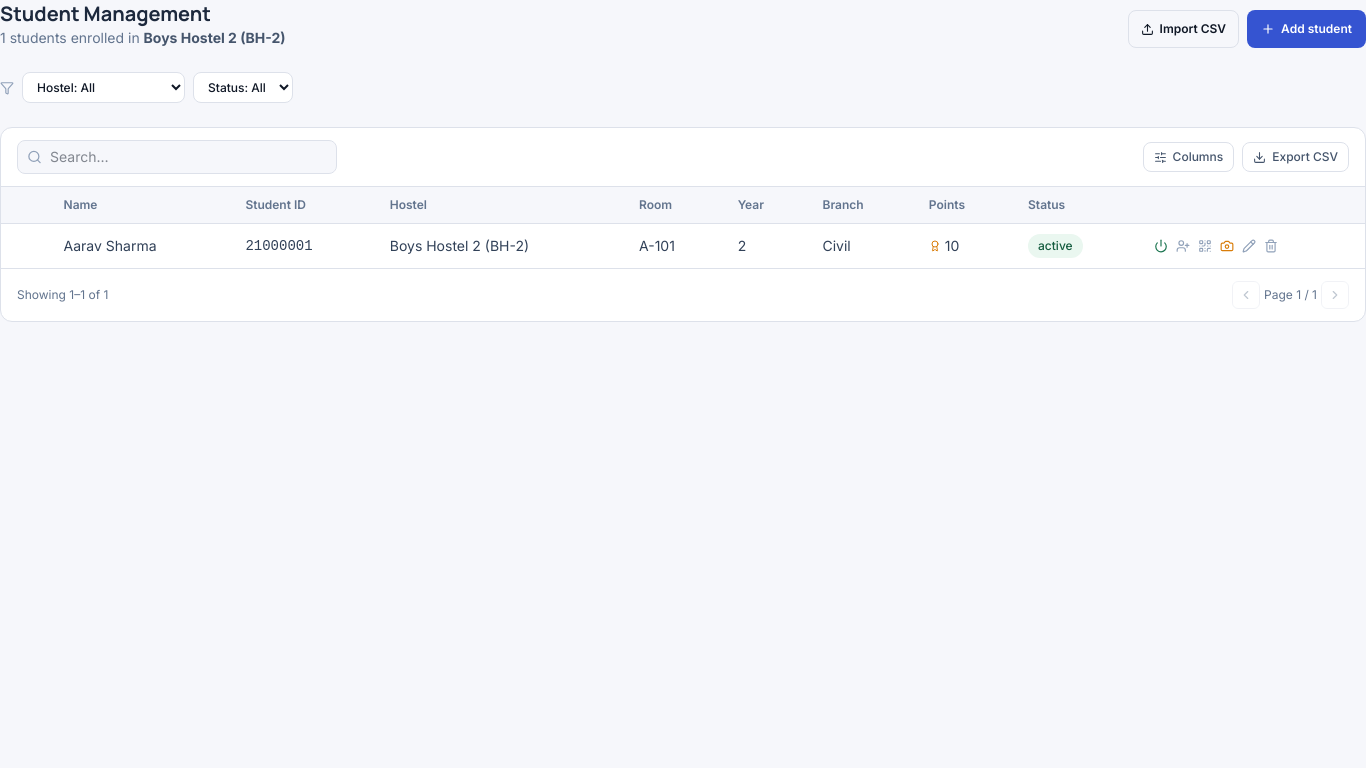
Test: Students — scope shown to a hostel-level admin › locks the hostel field to the admin's own hostel and hides the transfer action
This screenshot has width=1366, height=768.
Expected: the text "Aarav Sharma" is shown, [48,224,229,268]
Step 1. Click the button "Add student" → click(1307, 29), box [1247,10,1365,48]
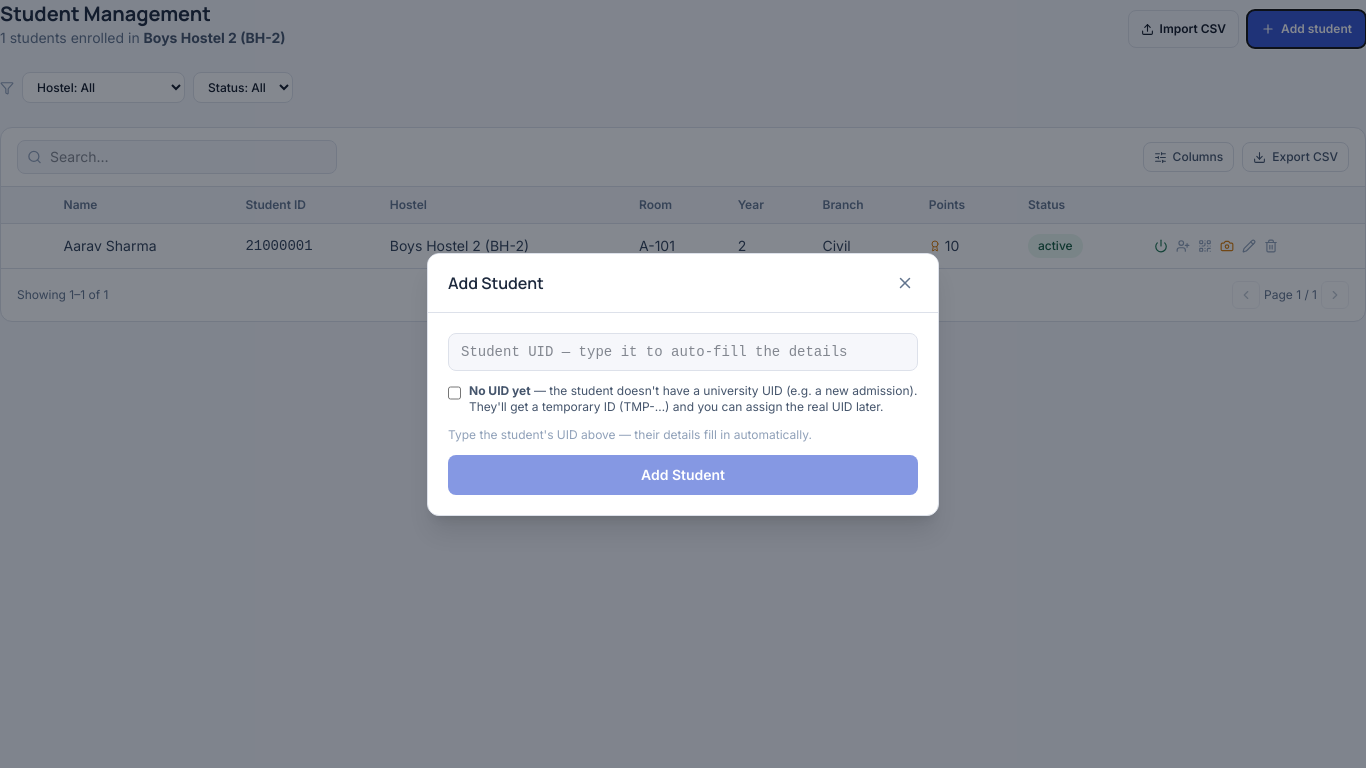
Step 2. Click the checkbox labelled "No UID yet" → click(454, 392), box [448,384,461,400]
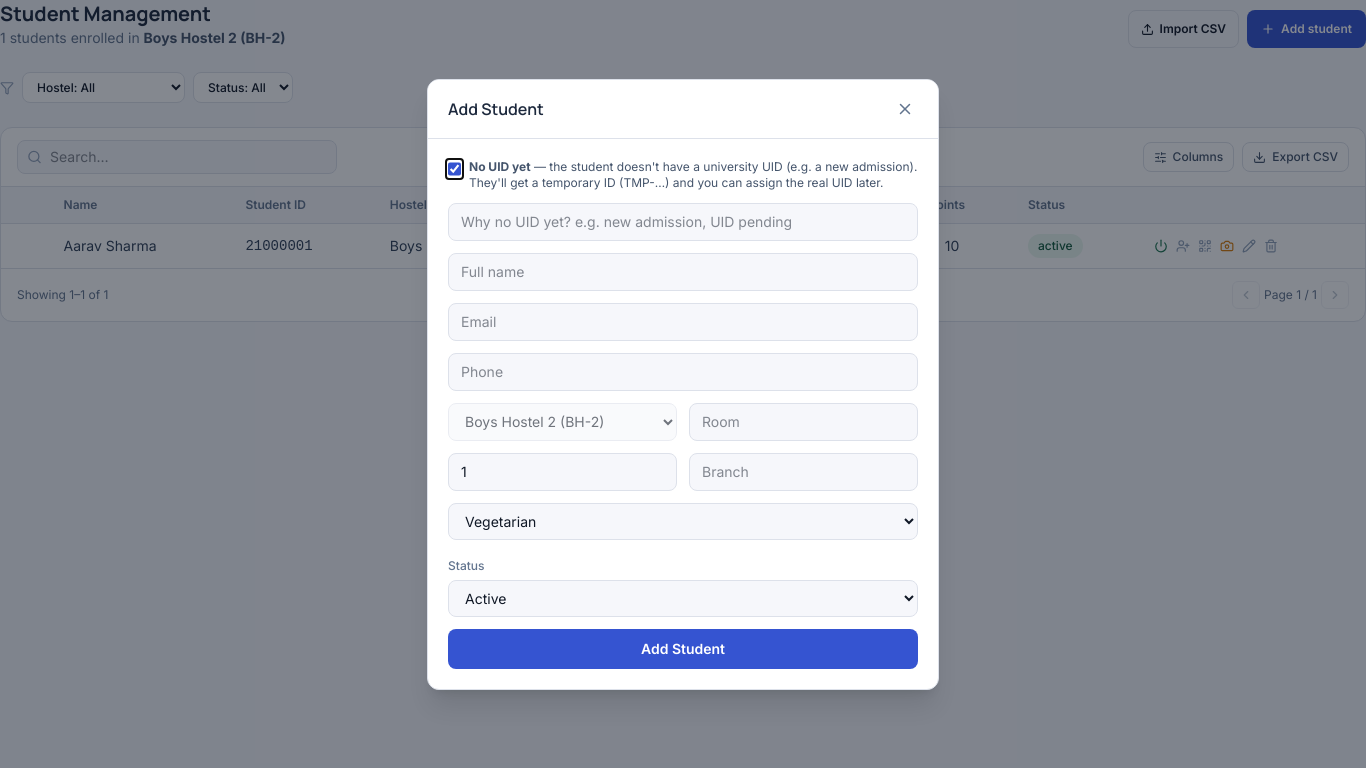
Expected: the 1st dropdown is disabled, [448,402,677,440]
